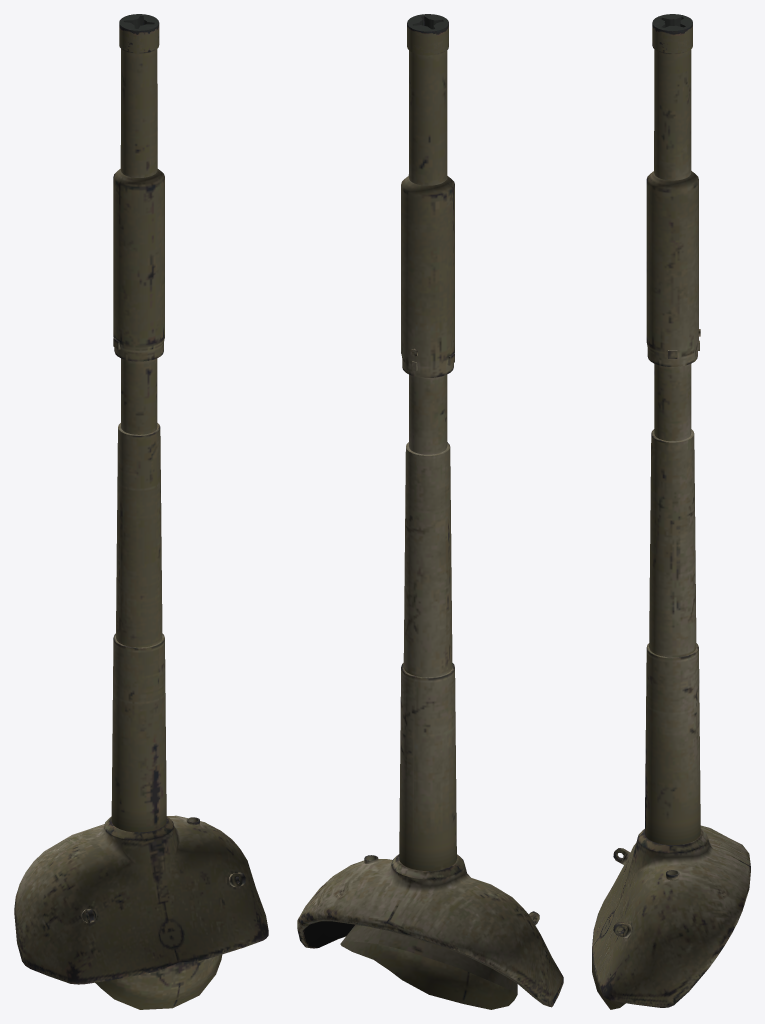
The model's file is Gun_04.glb.
3 views of the same model, side by side, from view 1: azimuth 30°, elevation 25°; view 2: azimuth 150°, elevation 25°; view 3: azimuth 270°, elevation 25° (orthographic). The views are drawn at different scales.
Parts seen in each view (by area): view 1: set_0_group_0; view 2: set_0_group_0; view 3: set_0_group_0.
Part boxes in pixels (bbox=[...]): set_0_group_0: bbox=[14, 14, 268, 1009]; set_0_group_0: bbox=[297, 14, 563, 1009]; set_0_group_0: bbox=[592, 14, 750, 1009].
Size of the model in its own units: 1.51 by 5.94 by 0.8757.
1 material, 1 textured.
